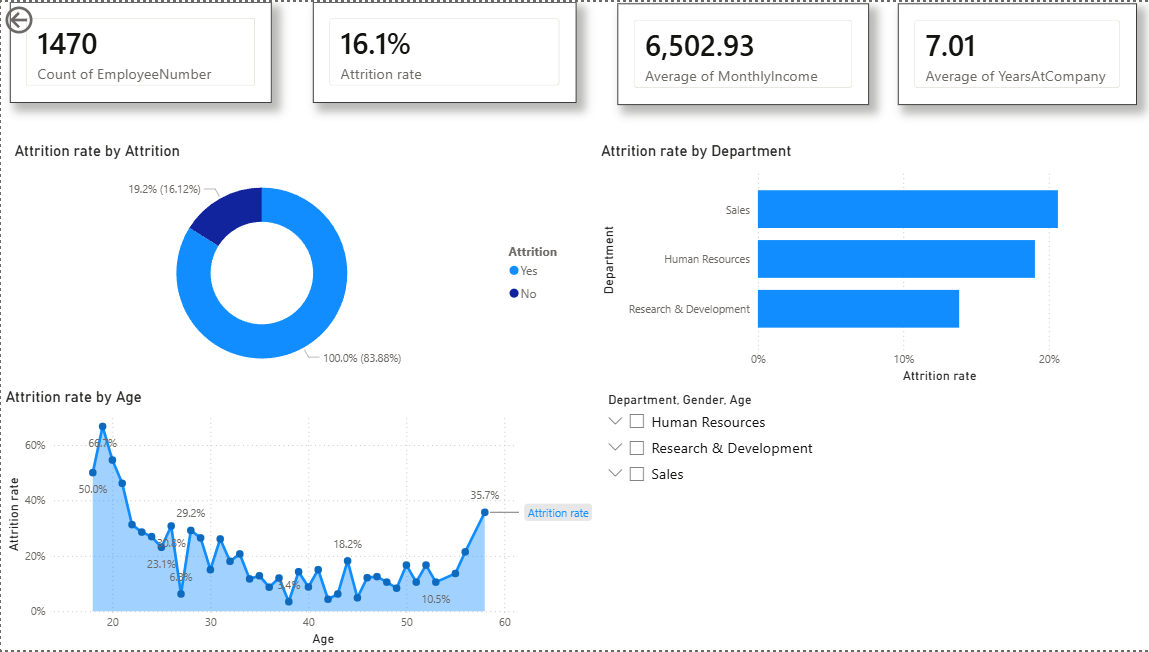

Layout of this report page (visuals, bound fields, positions):
{"tool":"powerbi","page":{"name":"Page 1","canvas":[1280,720],"ordinal":0},"visuals":[{"type":"cardVisual","fields":{"Data":["CountNonNull(hr_employee_attrition.EmployeeNumber)"]},"box":[9.8,0,290.4,111.8],"z":0},{"type":"cardVisual","fields":{"Data":["hr_employee_attrition.Attrition rate"]},"box":[347.3,0,292.4,111.8],"z":1000},{"type":"cardVisual","fields":{"Data":["Avg(hr_employee_attrition.MonthlyIncome)"]},"box":[685,1.6,279.3,112.3],"z":2000},{"type":"cardVisual","fields":{"Data":["Avg(hr_employee_attrition.YearsAtCompany)"]},"box":[997.1,1.6,265.3,112.3],"z":3000},{"type":"actionButton","box":[0,0,100,40],"z":4000},{"type":"donutChart","fields":{"Category":["hr_employee_attrition.Attrition"],"Y":["hr_employee_attrition.Attrition rate"]},"box":[10,155,630,273.3],"z":5000},{"type":"barChart","fields":{"Category":["hr_employee_attrition.Department"],"Y":["hr_employee_attrition.Attrition rate"]},"box":[661.7,155,600,273.3],"z":6000},{"type":"lineChart","fields":{"Category":["hr_employee_attrition.Age"],"Y":["hr_employee_attrition.Attrition rate"]},"box":[0,428.3,661.7,291.7],"z":7000},{"type":"slicer","fields":{"Values":["hr_employee_attrition.Department","hr_employee_attrition.Gender","hr_employee_attrition.Age"]},"box":[661.7,428.3,600,291.7],"z":8000}]}

Visuals, with their boxes in screenshot pixels (x1, y1, x2, y2), scaled from the page's 1280x720 canvas onto the 1149x652 screenshot:
cardVisual - CountNonNull(hr_employee_attrition.EmployeeNumber): [9,0,269,101]
cardVisual - hr_employee_attrition.Attrition rate: [312,0,574,101]
cardVisual - Avg(hr_employee_attrition.MonthlyIncome): [615,1,866,103]
cardVisual - Avg(hr_employee_attrition.YearsAtCompany): [895,1,1133,103]
actionButton: [0,0,90,36]
donutChart - hr_employee_attrition.Attrition x hr_employee_attrition.Attrition rate: [9,140,574,388]
barChart - hr_employee_attrition.Department x hr_employee_attrition.Attrition rate: [594,140,1133,388]
lineChart - hr_employee_attrition.Age x hr_employee_attrition.Attrition rate: [0,388,594,651]
slicer - hr_employee_attrition.Department x hr_employee_attrition.Gender: [594,388,1133,651]
